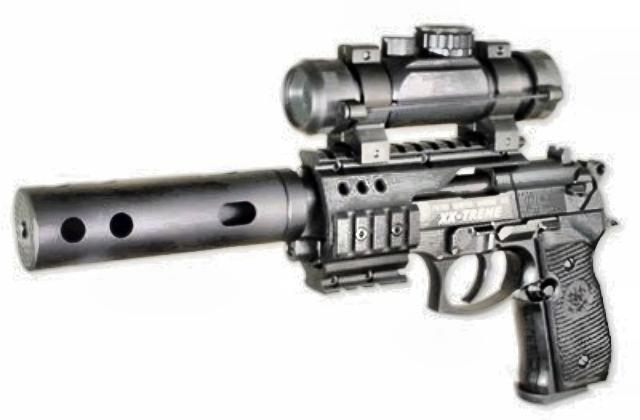pistol: (293, 149, 609, 405)
